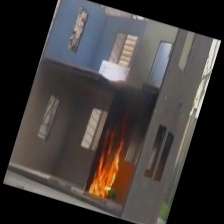fire: (85, 121, 137, 205)
